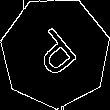P_SE: (26, 21, 85, 84)
